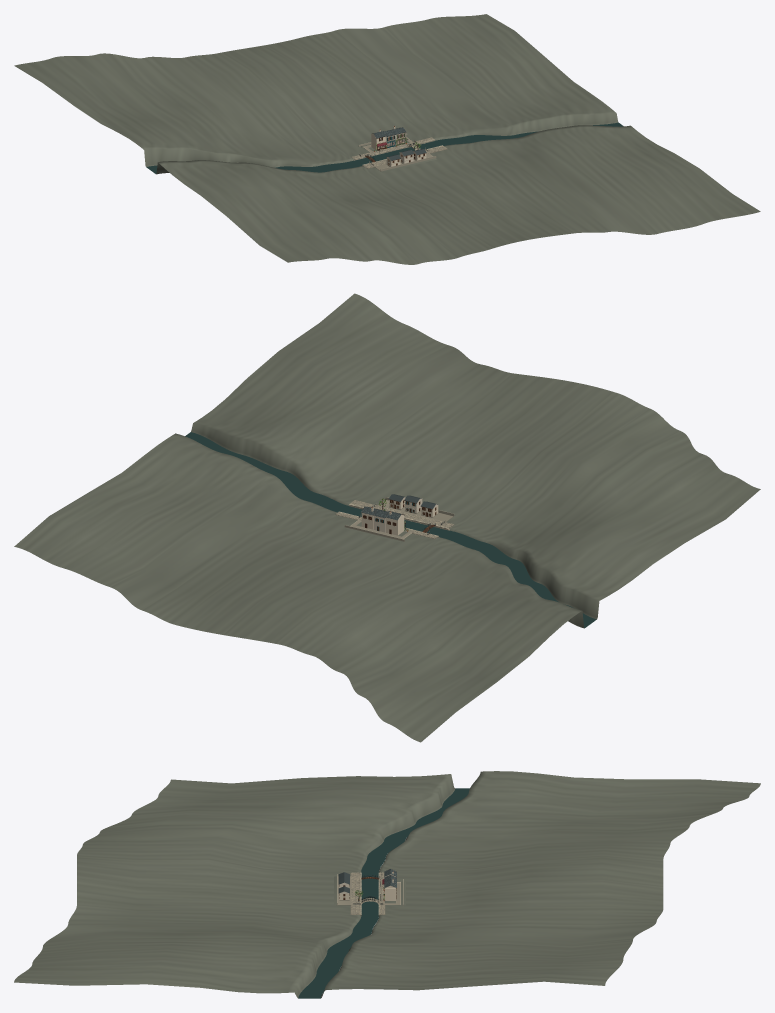
The model's file is roam-02.glb.
3 renders of one model, top to bottom at view 1: azimuth 30°, elevation 25°; view 2: azimuth 150°, elevation 25°; view 3: azimuth 270°, elevation 25°, orthographic. The views are drawn at different scales.
Visible parts, largest first — view 1: ROAM01_Surface / EXT_B02_DampMineralGround, ROAM01_Water, ROAM01_Surface / paving, ROAM01_Surface / stone; view 2: ROAM01_Surface / EXT_B02_DampMineralGround, ROAM01_Water, ROAM01_Surface / paving; view 3: ROAM01_Surface / EXT_B02_DampMineralGround, ROAM01_Water, ROAM01_Surface / paving, ROAM01_Surface / roof.
Part boxes in pixels (left/top/right/bottom): ROAM01_Surface / EXT_B02_DampMineralGround: left=14, top=14, right=760, bottom=264; ROAM01_Water: left=146, top=122, right=623, bottom=173; ROAM01_Surface / paving: left=351, top=137, right=447, bottom=170; ROAM01_Surface / stone: left=353, top=133, right=438, bottom=171; ROAM01_Surface / EXT_B02_DampMineralGround: left=14, top=293, right=760, bottom=742; ROAM01_Water: left=185, top=432, right=596, bottom=627; ROAM01_Surface / paving: left=335, top=500, right=454, bottom=538; ROAM01_Surface / EXT_B02_DampMineralGround: left=14, top=771, right=760, bottom=998; ROAM01_Water: left=298, top=788, right=469, bottom=998; ROAM01_Surface / paving: left=337, top=872, right=400, bottom=914; ROAM01_Surface / roof: left=338, top=869, right=396, bottom=893.
Bounding box in the file's own units: 245 × 11.32 × 368.
